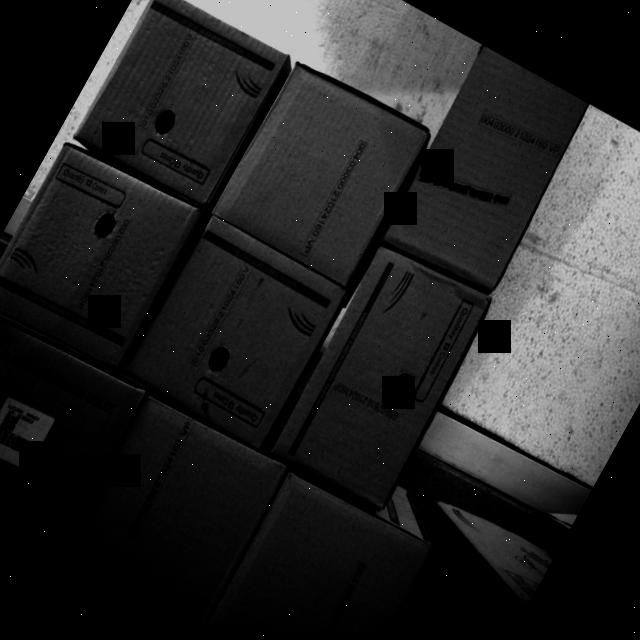box: (271, 245, 498, 512), (126, 213, 350, 451), (382, 48, 594, 298), (210, 59, 432, 291), (65, 391, 288, 620), (0, 143, 200, 374), (78, 0, 293, 207), (207, 468, 435, 640), (0, 299, 139, 541)
